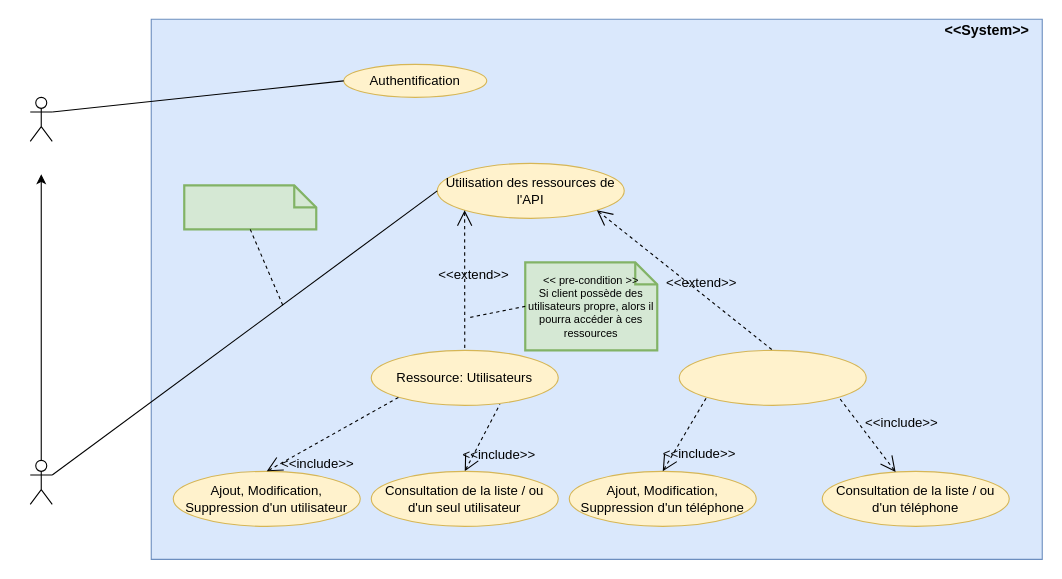
This 1062x579 diagram has some shape labels left out. Here are the shapes that lost their labels. From the top down, the centre of each, then its label:
At point 40,118: "Visiteur".
At point 250,207: "<< pre-condition >> Si utilisateur authentifié".
At point 772,377: "Ressource: Téléphones".
At point 40,481: "Client".
